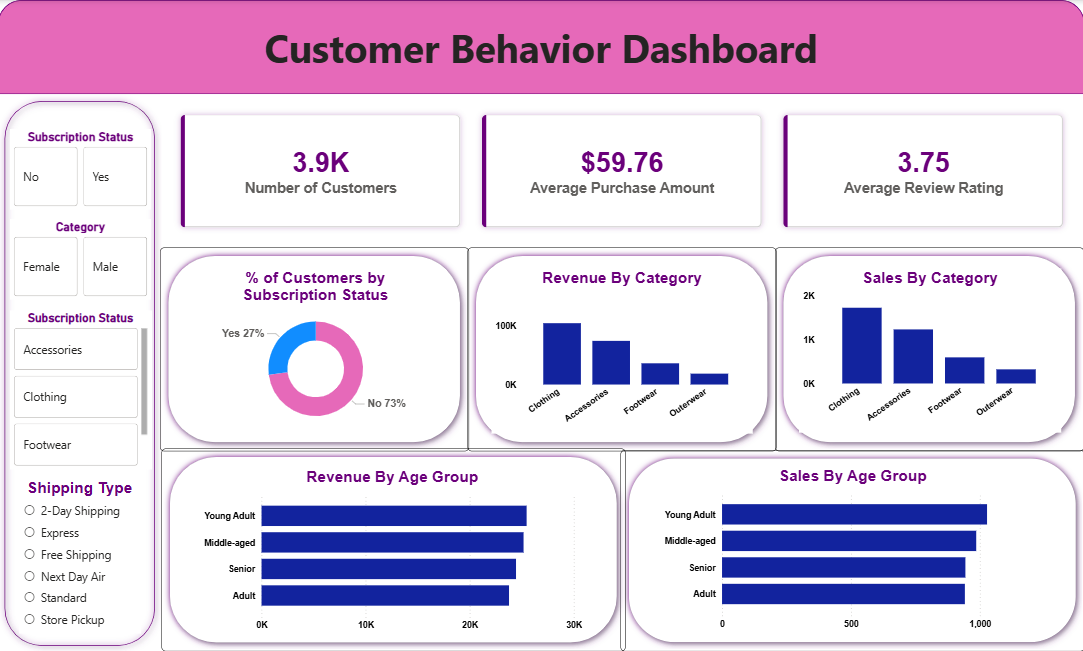

Layout of this report page (visuals, bound fields, positions):
{"tool":"powerbi","page":{"name":"Page 1","canvas":[1500,900],"ordinal":0},"visuals":[{"type":"shape","box":[0,0,1499.8,130.2],"z":0},{"type":"cardVisual","fields":{"Data":["customer_behavior customer.Number of Customers","customer_behavior customer.Average Purchase Amount","customer_behavior customer.Average Review Rating"]},"box":[224.5,130.2,1275.3,211.3],"z":1000},{"type":"textbox","box":[0,24.5,1499.8,105.6],"z":2000},{"type":"shape","box":[224.5,341.5,426.4,281.1],"z":3000},{"type":"donutChart","title":"% of Customers by Subscription Status","fields":{"Category":["customer_behavior customer.subscription_status"],"Y":["CountNonNull(customer_behavior customer.customer_id)"]},"box":[271.7,369.8,333.9,228.3],"z":4000},{"type":"shape","box":[1073.4,341.5,426.4,281.1],"z":5000},{"type":"shape","box":[649,341.5,426.4,281.1],"z":6000},{"type":"clusteredColumnChart","title":"Revenue By Category","fields":{"Y":["Sum(customer_behavior customer.purchase_amount)"],"Category":["customer_behavior customer.category"]},"box":[681.2,370.3,360.8,227.8],"z":7000},{"type":"clusteredColumnChart","title":"Sales By Category","fields":{"Category":["customer_behavior customer.category"],"Y":["CountNonNull(customer_behavior customer.customer_id)"]},"box":[1105.5,369.8,362.2,226.4],"z":8000},{"type":"shape","box":[0,130.4,225.7,770.3],"z":9000},{"type":"advancedSlicerVisual","title":"Subscription Status","fields":{"Values":["customer_behavior customer.subscription_status"]},"box":[16.6,178,194.6,111.6],"z":10000},{"type":"advancedSlicerVisual","title":"Category","fields":{"Values":["customer_behavior customer.gender"]},"box":[16.6,302.9,194.6,111.6],"z":11000},{"type":"advancedSlicerVisual","title":"Subscription Status","fields":{"Values":["customer_behavior customer.category"]},"box":[16.6,427.7,194.6,219.5],"z":12000},{"type":"listSlicer","title":"Shipping Type","fields":{"Values":["customer_behavior customer.shipping_type"]},"box":[29,660.5,167.7,213.3],"z":13000},{"type":"shape","box":[859.2,621.8,640.8,277.7],"z":14000},{"type":"shape","box":[225.5,619.5,640.8,280.1],"z":15000},{"type":"clusteredBarChart","title":"Revenue By Age Group","fields":{"Y":["Sum(customer_behavior customer.previous_purchases)"],"Category":["customer_behavior customer.age_group"]},"box":[277.7,645.6,534,232.6],"z":16000},{"type":"clusteredBarChart","title":"Sales By Age Group","fields":{"Category":["customer_behavior customer.age_group"],"Y":["CountNonNull(customer_behavior customer.customer_id)"]},"box":[913.8,643.2,534,232.6],"z":17000}]}

Visuals, with their boxes in screenshot pixels (x1, y1, x2, y2), scaled from the page's 1500x900 canvas onto the 1083x651 screenshot:
shape: x1=0, y1=0, x2=1082, y2=94
cardVisual - customer_behavior customer.Number of Customers x customer_behavior customer.Average Purchase Amount: x1=162, y1=94, x2=1082, y2=247
textbox: x1=0, y1=18, x2=1082, y2=94
shape: x1=162, y1=247, x2=470, y2=450
"% of Customers by Subscription Status" donutChart: x1=196, y1=267, x2=437, y2=433
shape: x1=775, y1=247, x2=1082, y2=450
shape: x1=469, y1=247, x2=776, y2=450
"Revenue By Category" clusteredColumnChart: x1=492, y1=268, x2=752, y2=433
"Sales By Category" clusteredColumnChart: x1=798, y1=267, x2=1060, y2=431
shape: x1=0, y1=94, x2=163, y2=650
"Subscription Status" advancedSlicerVisual: x1=12, y1=129, x2=152, y2=209
"Category" advancedSlicerVisual: x1=12, y1=219, x2=152, y2=300
"Subscription Status" advancedSlicerVisual: x1=12, y1=309, x2=152, y2=468
"Shipping Type" listSlicer: x1=21, y1=478, x2=142, y2=632
shape: x1=620, y1=450, x2=1082, y2=650
shape: x1=163, y1=448, x2=625, y2=650
"Revenue By Age Group" clusteredBarChart: x1=200, y1=467, x2=586, y2=635
"Sales By Age Group" clusteredBarChart: x1=660, y1=465, x2=1045, y2=633
